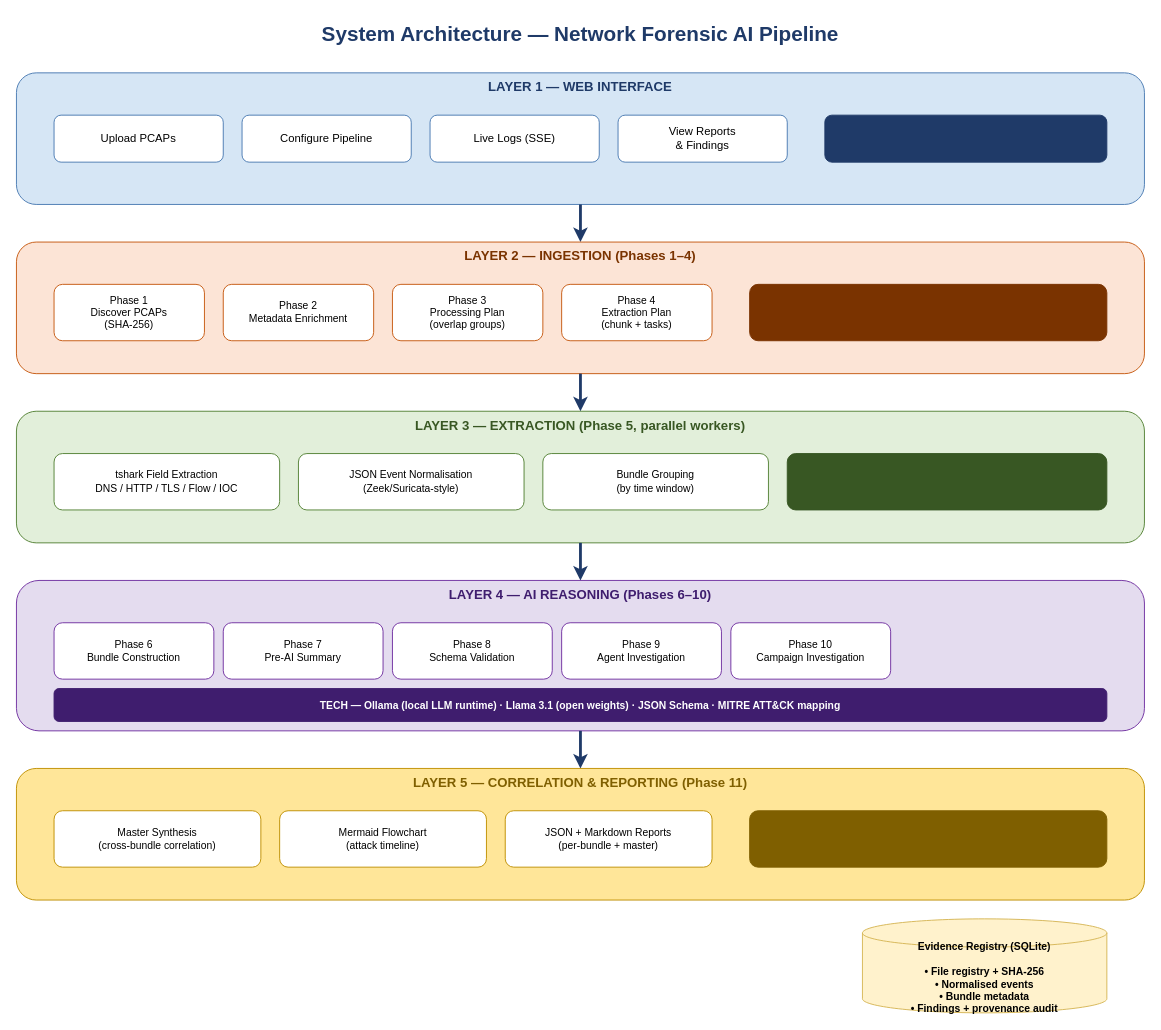
The diagram is 1161 pixels wide and 1030 high, and some of its shapes have lost their labels. The shapes that lost their labels are listed below. From the top down, each one's centre as x and y in pixels, then its label:
(965,138): TECH Flask · Server-Sent Events · HTML/CSS/JS
(928,312): TECH Python · capinfos (Wireshark) · SQLite (Evidence Registry)
(946,481): TECH tshark (Wireshark CLI) · Python multiprocessing (4 workers)
(928,838): TECH Mermaid · Markdown · JSON
